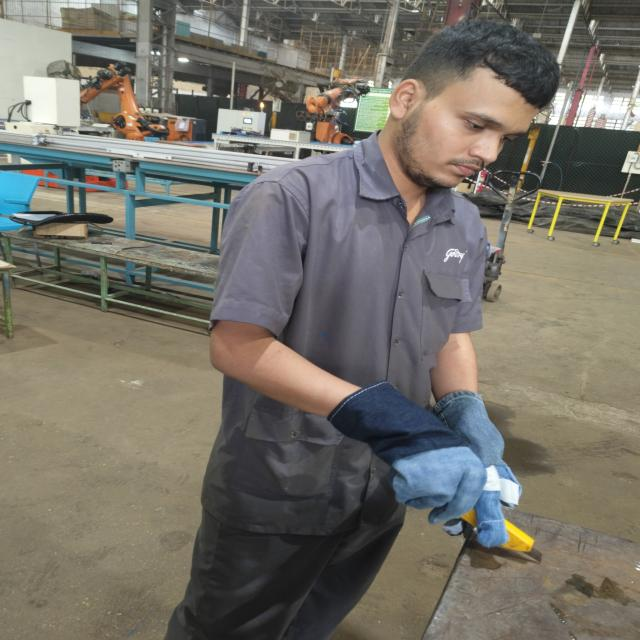Gloves-Detection: (350, 378, 523, 549)
